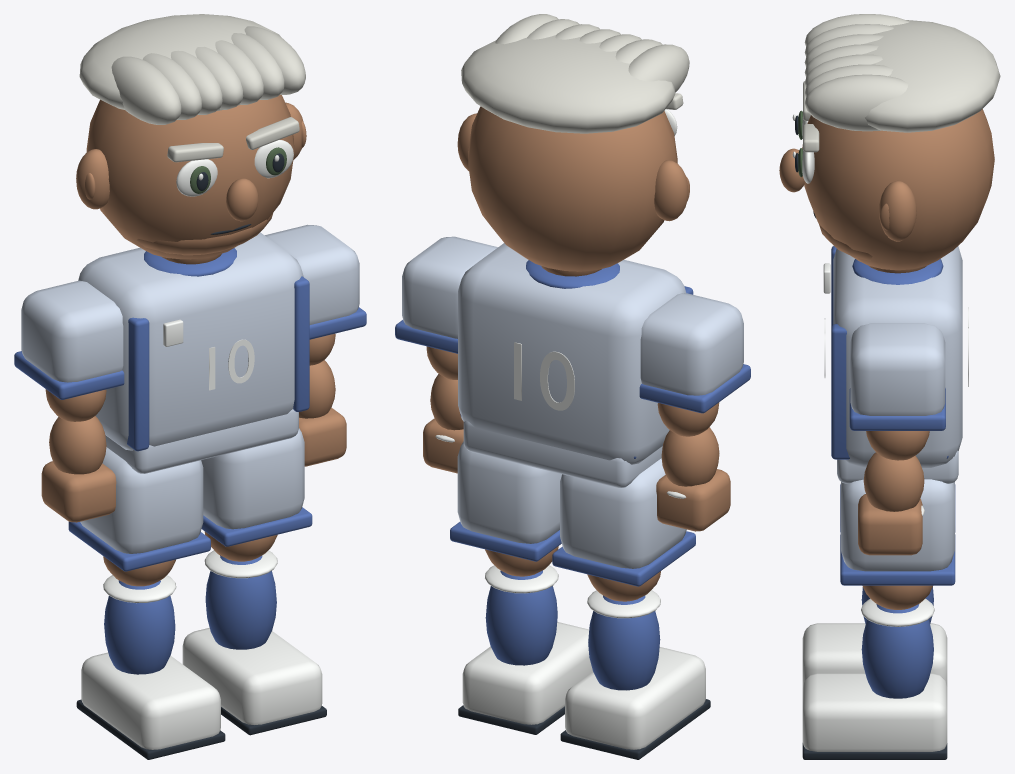
The model's file is Ruzgar.fbx.
3 renders of one model, left to right at view 1: azimuth 30°, elevation 25°; view 2: azimuth 150°, elevation 25°; view 3: azimuth 270°, elevation 25°, orthographic.
Parts seen in each view (by area): view 1: Torso, Head, Boot_Left, Boot_Right, Sleeve_Left, Shorts_Left, Shorts_Right, HairCap, Sleeve_Right, Sock_Left, Sock_Right, Waist (+34 smaller); view 2: Torso, Head, HairCap, Shorts_Left, Sleeve_Left, Boot_Left, Shorts_Right, Boot_Right, Sleeve_Right, Sock_Left, Sock_Right, Waist (+22 smaller); view 3: Head, Torso, HairCap, Boot_Right, Sleeve_Right, Shorts_Right, Sock_Right, Boot_Left, SweptLock.006, Hand_Right, Forearm_Right, KitSidePanel.001 (+18 smaller).
Boxes of the visible parts, bbox=[...] form: Torso: bbox=[78, 232, 303, 450]; Head: bbox=[86, 94, 294, 259]; Boot_Left: bbox=[81, 652, 220, 749]; Boot_Right: bbox=[182, 627, 322, 724]; Sleeve_Left: bbox=[21, 280, 123, 382]; Shorts_Left: bbox=[80, 447, 203, 553]; Shorts_Right: bbox=[201, 428, 304, 529]; HairCap: bbox=[79, 14, 281, 110]; Sleeve_Right: bbox=[265, 224, 359, 324]; Sock_Left: bbox=[104, 580, 175, 674]; Sock_Right: bbox=[205, 555, 276, 649]; Waist: bbox=[105, 409, 298, 473]; Torso: bbox=[458, 243, 686, 464]; Head: bbox=[468, 106, 677, 271]; HairCap: bbox=[461, 35, 675, 133]; Shorts_Left: bbox=[560, 458, 686, 568]; Sleeve_Left: bbox=[640, 293, 743, 395]; Boot_Left: bbox=[565, 647, 705, 749]; Shorts_Right: bbox=[457, 441, 561, 543]; Boot_Right: bbox=[462, 622, 592, 724]; Sleeve_Right: bbox=[402, 236, 497, 338]; Sock_Left: bbox=[588, 595, 660, 690]; Sock_Right: bbox=[485, 570, 557, 665]; Waist: bbox=[463, 420, 662, 487]; Head: bbox=[802, 109, 994, 270]; Torso: bbox=[833, 246, 962, 467]; HairCap: bbox=[862, 20, 1000, 132]; Boot_Right: bbox=[802, 673, 947, 751]; Sleeve_Right: bbox=[850, 323, 945, 415]; Shorts_Right: bbox=[841, 479, 954, 571]; Sock_Right: bbox=[861, 604, 933, 698]; Boot_Left: bbox=[802, 623, 947, 687]; SweptLock.006: bbox=[805, 74, 908, 131]; Hand_Right: bbox=[858, 494, 922, 555]; Forearm_Right: bbox=[863, 452, 924, 511]; KitSidePanel.001: bbox=[831, 324, 948, 459].
Size of the model in its own units: 93.31 by 194 by 57.73.
